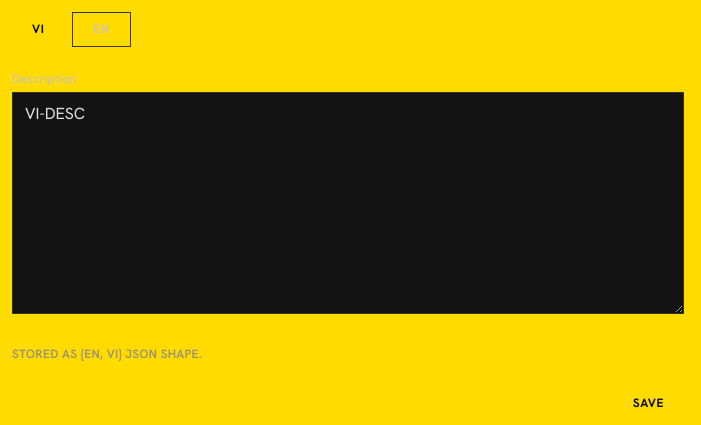
Test: VehicleDescriptionForm › shows the active locale value when toggling back and forth
Expected: the text box named "Description" holds "VI-DESC", top-left (12, 92), bottom-right (684, 314)
Click the button "EN". click: {"x": 102, "y": 29}
box: top-left (72, 12), bottom-right (131, 47)
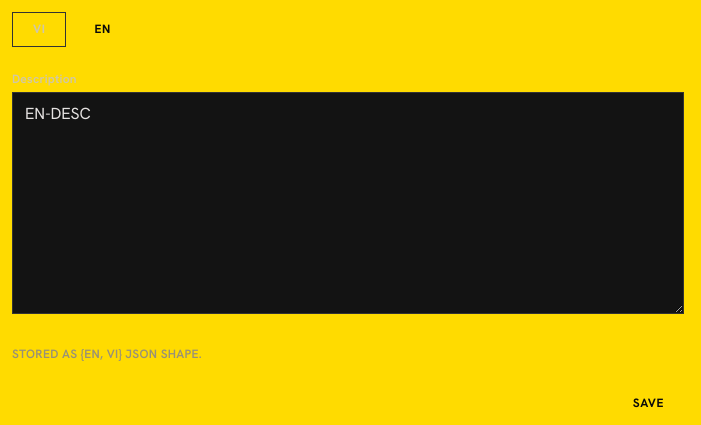
Expected: the text box named "Description" holds "EN-DESC", top-left (12, 92), bottom-right (684, 314)
// Switching back must show VI again, not the stale EN value
Click the button "VI". click: {"x": 39, "y": 29}
box: top-left (12, 12), bottom-right (66, 47)
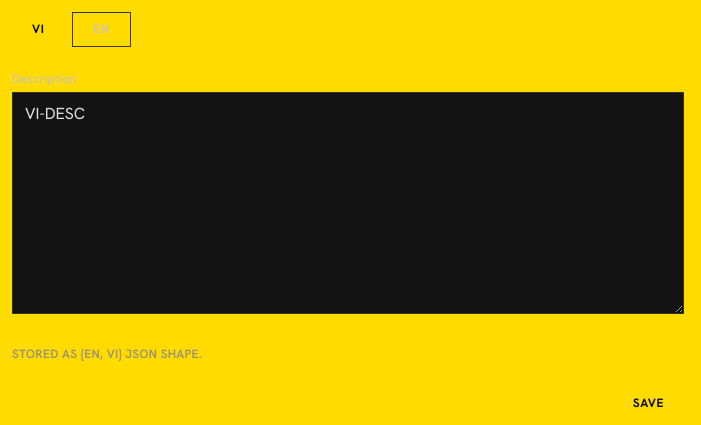
Expected: the text box named "Description" holds "VI-DESC", top-left (12, 92), bottom-right (684, 314)
// And forward once more
Click the button "EN". click: {"x": 102, "y": 29}
box: top-left (72, 12), bottom-right (131, 47)
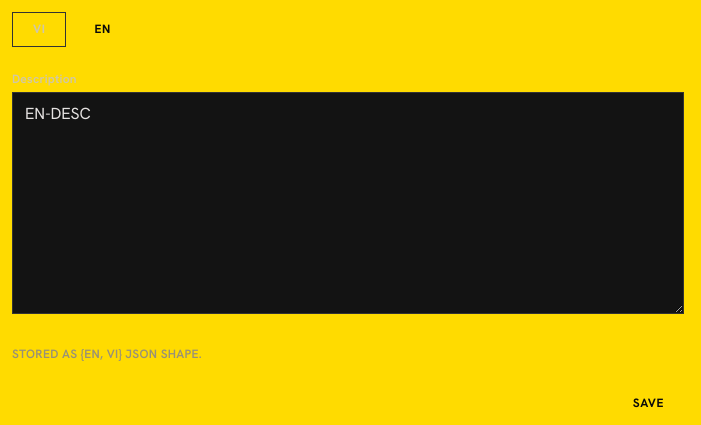
Expected: the text box named "Description" holds "EN-DESC", top-left (12, 92), bottom-right (684, 314)
